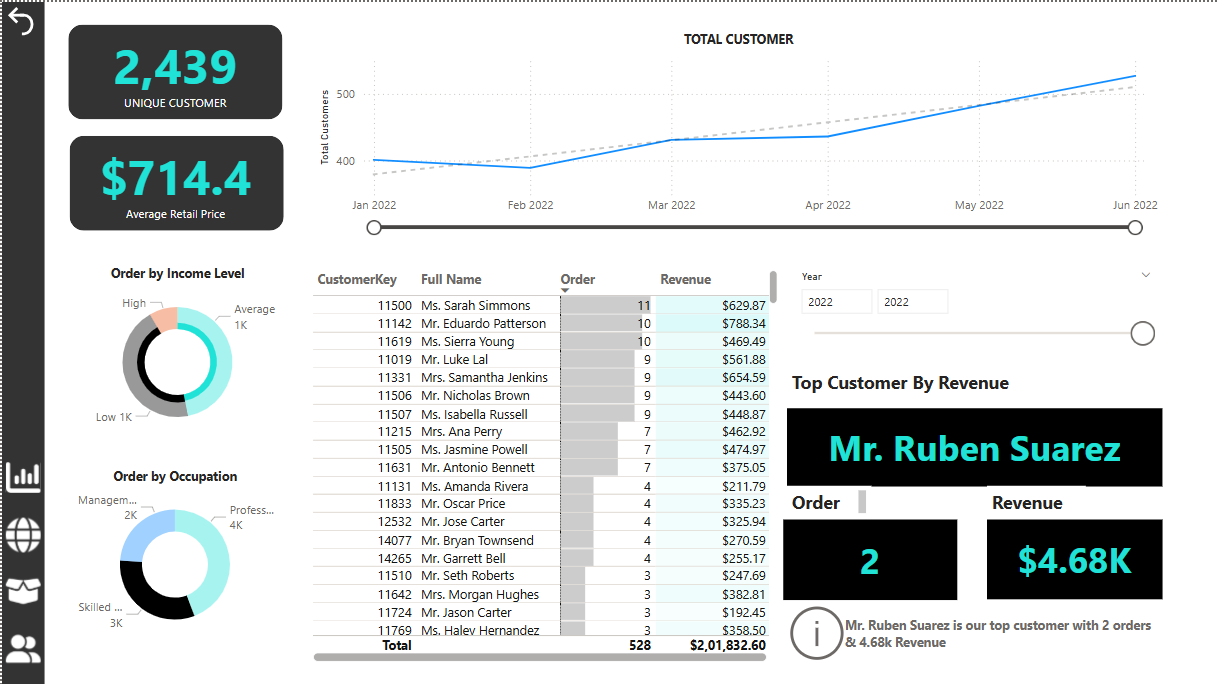

The page's visual inventory and layout, read from the dashboard file:
{"tool":"powerbi","page":{"name":"Customer Details","canvas":[1280,720],"ordinal":3},"visuals":[{"type":"shape","box":[70.3,23.2,225.7,100],"z":0},{"type":"card","fields":{"Values":["Measure Table.Total Customers"]},"box":[77.4,23.2,210,100],"z":1000},{"type":"actionButton","box":[0.4,474.7,44.7,50.5],"z":2000,"group":"g1"},{"type":"shape","box":[70.5,140.2,225.7,100],"z":2000},{"type":"actionButton","box":[0.4,594.9,44.7,50.5],"z":3000,"group":"g1"},{"type":"card","fields":{"Values":["Measure Table.Average Retail Price"]},"box":[78.1,140,210.6,101],"z":3000},{"type":"lineChart","title":"TOTAL CUSTOMER","fields":{"Y":["Measure Table.Total Customers"],"Category":["Calendar Lookup.Date Hierarchy.Start of Year","Calendar Lookup.Date Hierarchy.Start of Month","Calendar Lookup.Date Hierarchy.Start of Week","Calendar Lookup.Date Hierarchy.Date"]},"box":[328.9,30.3,893.1,217.9],"z":4000},{"type":"actionButton","box":[0.4,534.8,44.7,50.5],"z":4000,"group":"g1"},{"type":"shape","title":"Left Bar","box":[0,0,45,720],"z":5000},{"type":"actionButton","box":[0.4,655,44.7,50.5],"z":5000,"group":"g1"},{"type":"donutChart","title":"Order by Income Level","fields":{"Category":["Customer Lookup.Income Level"],"Y":["Measure Table.Total Order"]},"box":[72.1,276.4,225,188.3],"z":6000},{"type":"donutChart","title":"Order by Occupation","fields":{"Y":["Measure Table.Total Order"],"Category":["Customer Lookup.Occupation"]},"box":[69.7,489.1,225,188.3],"z":7000},{"type":"tableEx","fields":{"Values":["Customer Lookup.CustomerKey","Customer Lookup.Full Name","Measure Table.Total Order","Measure Table.Total Revenue"]},"box":[321.4,277.1,500,421.4],"z":8000},{"type":"card","fields":{"Values":["Customer Lookup.Full Name"]},"box":[826.7,427.1,395.3,82.2],"z":9000},{"type":"card","fields":{"Values":["Measure Table.Total Revenue"]},"box":[1037.3,545.4,184.7,83.7],"z":10000},{"type":"card","fields":{"Values":["Measure Table.Total Order"]},"box":[822.4,545.4,183.2,85.1],"z":11000},{"type":"textbox","box":[826.3,382.6,285.9,44.1],"z":12000},{"type":"textbox","box":[1037.3,509.3,103.9,34.6],"z":13000},{"type":"textbox","box":[826.3,509.8,88.6,34.3],"z":14000},{"type":"slicer","fields":{"Values":["Calendar Lookup.Year"]},"box":[829.2,277.3,392.5,105.2],"z":15000},{"type":"actionButton","box":[823,628.5,398.6,70.9],"z":16000},{"type":"actionButton","box":[0,0,45.2,40.4],"z":17000},{"type":"group","id":"g1","title":"Navigation Button","box":[0.4,474.7,44.7,230.8],"z":18000}]}

Visuals, with their boxes on the page's 1280x720 design canvas (x1, y1, x2, y2). These are canvas units, not pixel positions in the 1217x684 screenshot, which may show the page scaled, cropped or inside an application window:
shape: pyautogui.locateOnScreen(70, 23, 296, 123)
card - Measure Table.Total Customers: pyautogui.locateOnScreen(77, 23, 287, 123)
actionButton: pyautogui.locateOnScreen(0, 475, 45, 525)
shape: pyautogui.locateOnScreen(70, 140, 296, 240)
actionButton: pyautogui.locateOnScreen(0, 595, 45, 645)
card - Measure Table.Average Retail Price: pyautogui.locateOnScreen(78, 140, 289, 241)
"TOTAL CUSTOMER" lineChart: pyautogui.locateOnScreen(329, 30, 1222, 248)
actionButton: pyautogui.locateOnScreen(0, 535, 45, 585)
"Left Bar" shape: pyautogui.locateOnScreen(0, 0, 45, 720)
actionButton: pyautogui.locateOnScreen(0, 655, 45, 706)
"Order by Income Level" donutChart: pyautogui.locateOnScreen(72, 276, 297, 465)
"Order by Occupation" donutChart: pyautogui.locateOnScreen(70, 489, 295, 677)
tableEx - Customer Lookup.CustomerKey x Customer Lookup.Full Name: pyautogui.locateOnScreen(321, 277, 821, 698)
card - Customer Lookup.Full Name: pyautogui.locateOnScreen(827, 427, 1222, 509)
card - Measure Table.Total Revenue: pyautogui.locateOnScreen(1037, 545, 1222, 629)
card - Measure Table.Total Order: pyautogui.locateOnScreen(822, 545, 1006, 630)
textbox: pyautogui.locateOnScreen(826, 383, 1112, 427)
textbox: pyautogui.locateOnScreen(1037, 509, 1141, 544)
textbox: pyautogui.locateOnScreen(826, 510, 915, 544)
slicer - Calendar Lookup.Year: pyautogui.locateOnScreen(829, 277, 1222, 382)
actionButton: pyautogui.locateOnScreen(823, 628, 1222, 699)
actionButton: pyautogui.locateOnScreen(0, 0, 45, 40)
"Navigation Button" group: pyautogui.locateOnScreen(0, 475, 45, 706)
